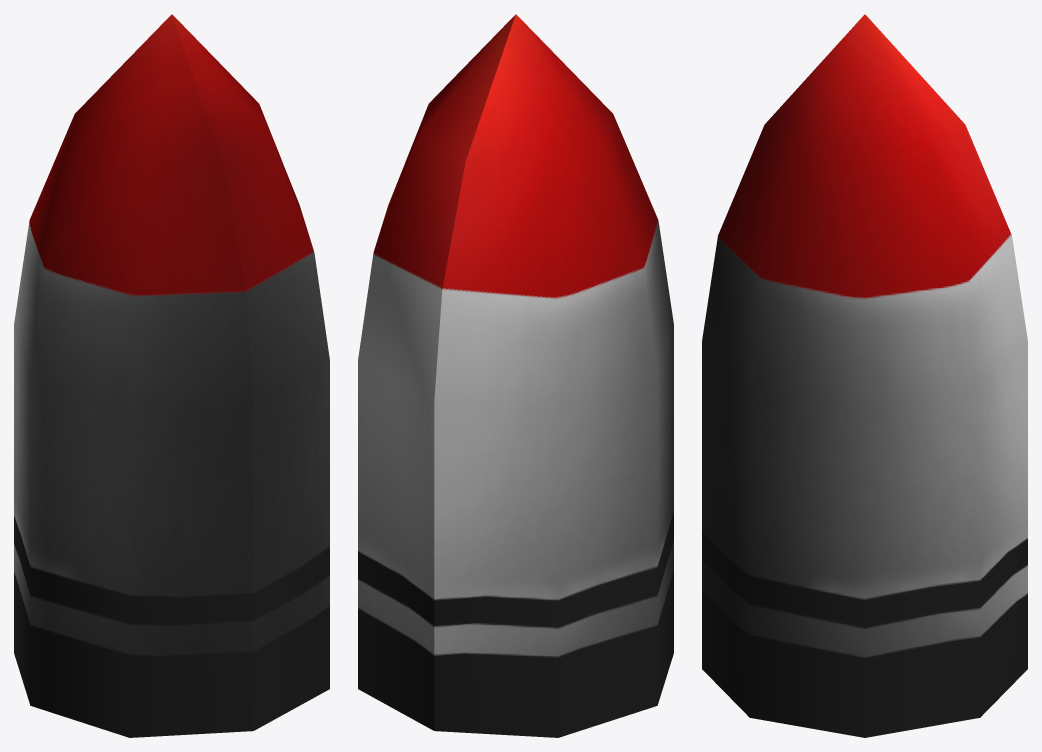
The model's file is Bullet.fbx.
3 views of the same model, side by side, from view 1: azimuth 30°, elevation 25°; view 2: azimuth 150°, elevation 25°; view 3: azimuth 270°, elevation 25° (orthographic).
Visible parts, largest first — view 1: pCylinder3; view 2: pCylinder3; view 3: pCylinder3.
Part boxes in pixels (<box>): pCylinder3: <box>14,14,329,737</box>; pCylinder3: <box>358,14,673,737</box>; pCylinder3: <box>702,14,1027,737</box>.
Bounding box in the file's own units: 5.65 × 12.52 × 5.65.
